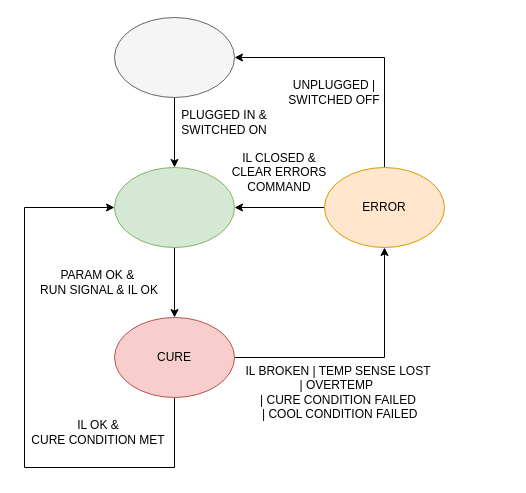
Some shapes in this 526 by 493 pixel diagram are drawn without their labels. Each missing label, with the centre of its shape:
OFF: (174,57)
STARTUP: (174,207)
